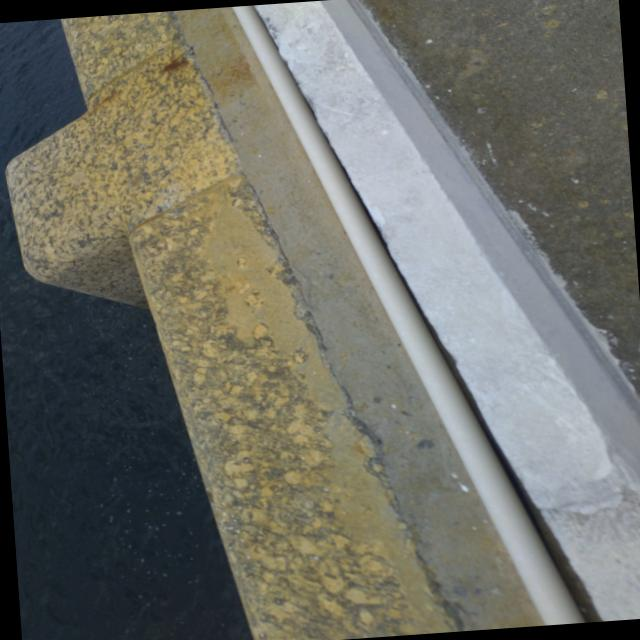gas: (223, 4, 587, 625)
